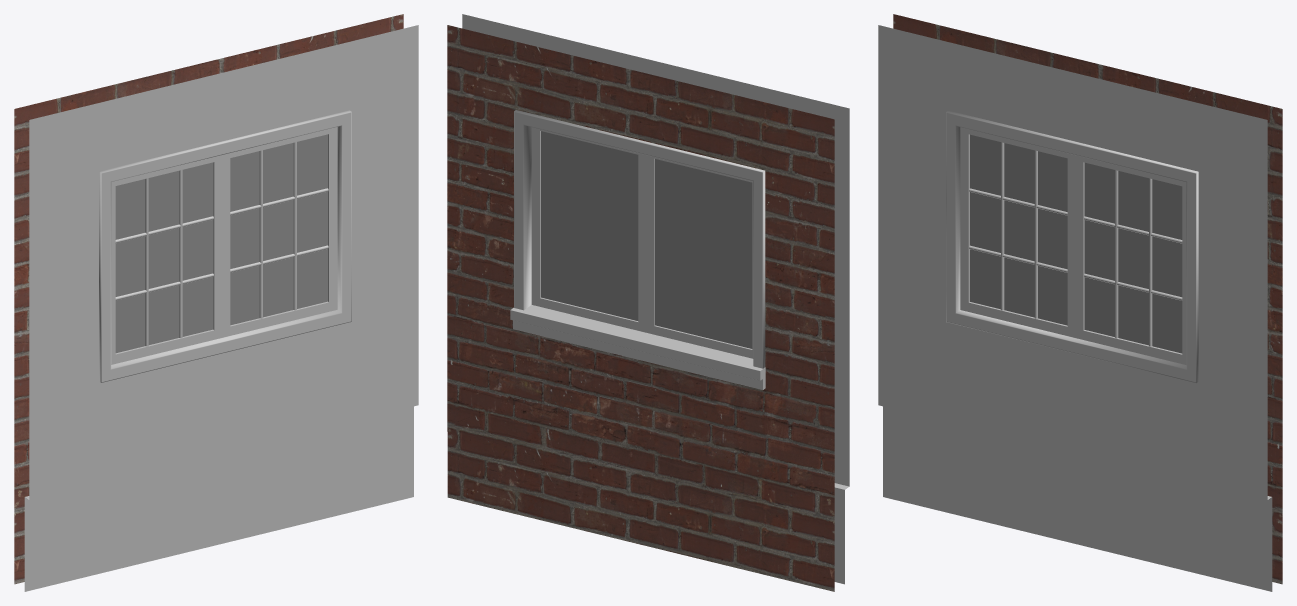
File: In_WallDown_Window_Double_B_3x.FBX
3 views of the same model, side by side, from view 1: azimuth 30°, elevation 25°; view 2: azimuth 150°, elevation 25°; view 3: azimuth 330°, elevation 25° (orthographic).
Parts seen in each view (by area): view 1: WallDown_Window_Double_B_3x; view 2: WallDown_Window_Double_B_3x; view 3: WallDown_Window_Double_B_3x.
Boxes of the visible parts, x1,y1,x2,y2 form: WallDown_Window_Double_B_3x: (14,14,418,591); WallDown_Window_Double_B_3x: (447,14,849,591); WallDown_Window_Double_B_3x: (878,14,1282,591).
Bounding box in the file's own units: 300 × 350 × 29.55.
